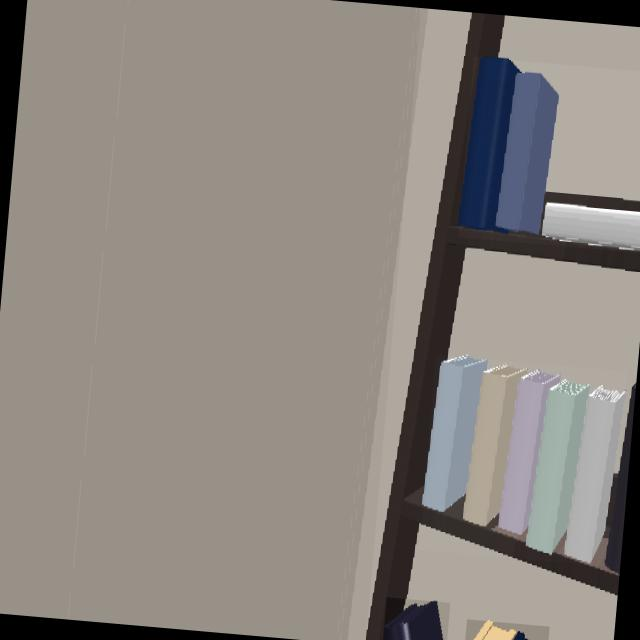book: (422, 356, 625, 564), (459, 57, 640, 253), (384, 602, 444, 640), (474, 621, 529, 640)
bookshelf: (366, 12, 640, 640)
